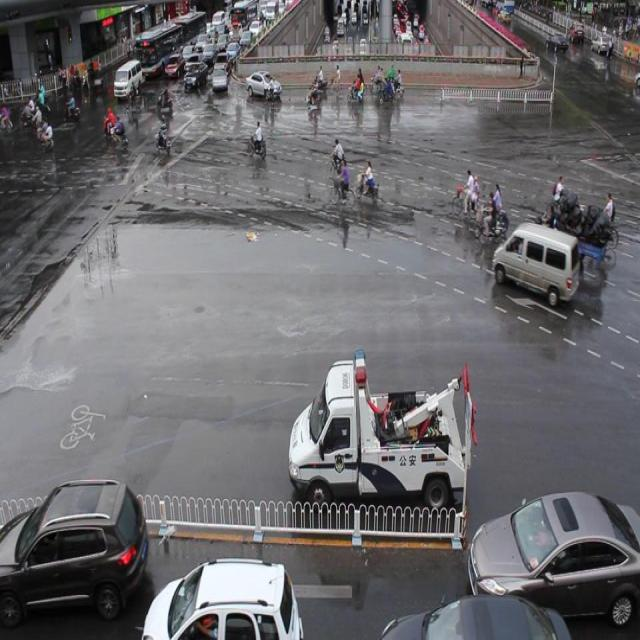bus: (287, 352, 473, 518)
car: (468, 492, 640, 620), (1, 482, 148, 624), (142, 554, 300, 640), (380, 591, 570, 640), (245, 72, 281, 101)
truck: (492, 218, 577, 302)
